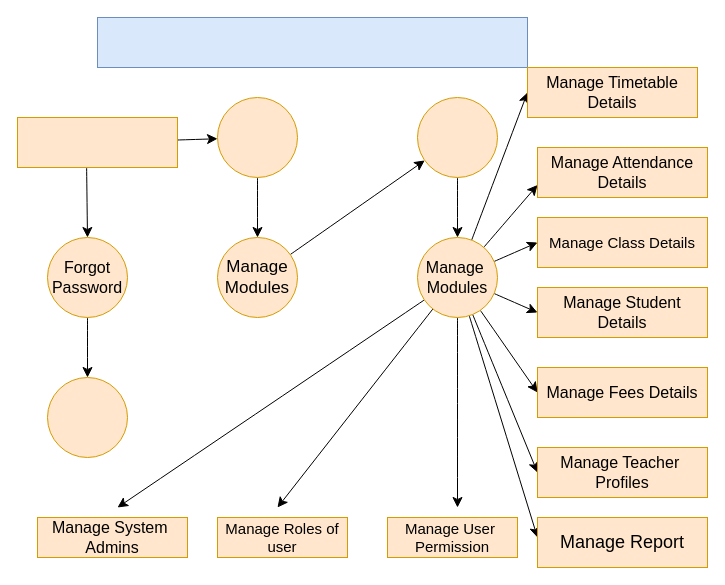
Some shapes in this 725 by 585 pixel diagram are drawn without their labels. Each missing label, with the box of its shape:
Admin: (16, 116, 178, 168)
Check Roles of Access: (416, 96, 498, 178)
Login to System: (216, 96, 298, 178)
Send Email to user: (46, 376, 128, 458)
Student Information System: (96, 16, 528, 68)
